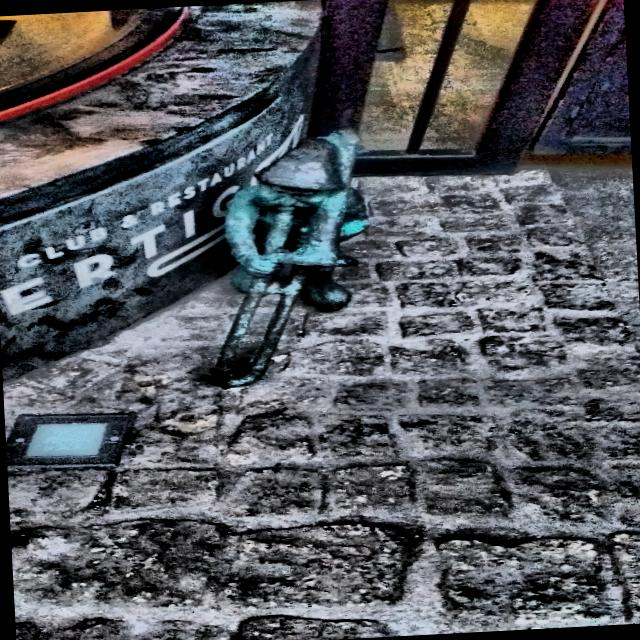Vertigus: (213, 129, 368, 387)
